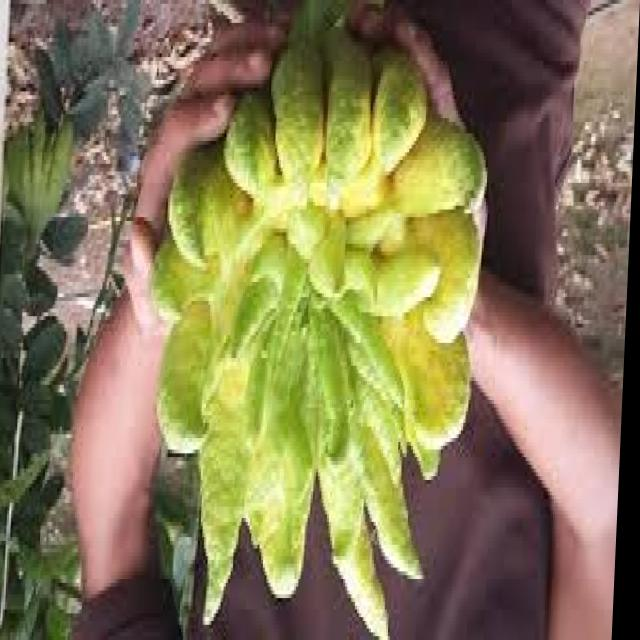PhatThu: (136, 52, 494, 634)
